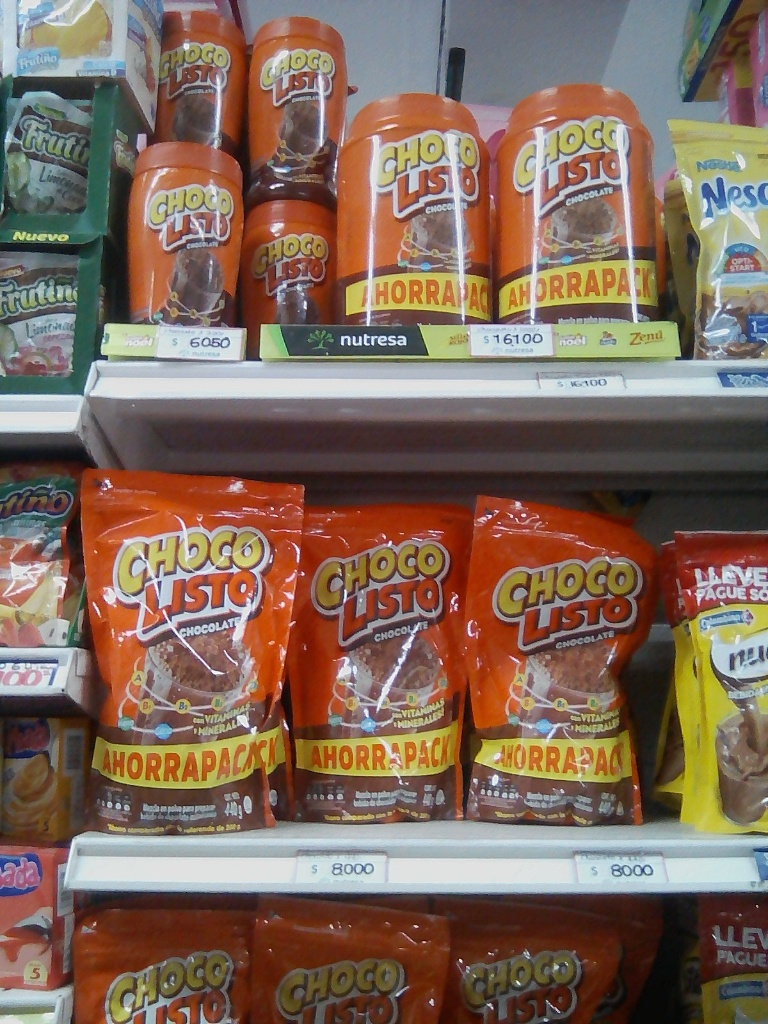COL0170103DYP44000: (78, 461, 299, 845)
COL0170103TRR00100: (337, 89, 496, 325)
